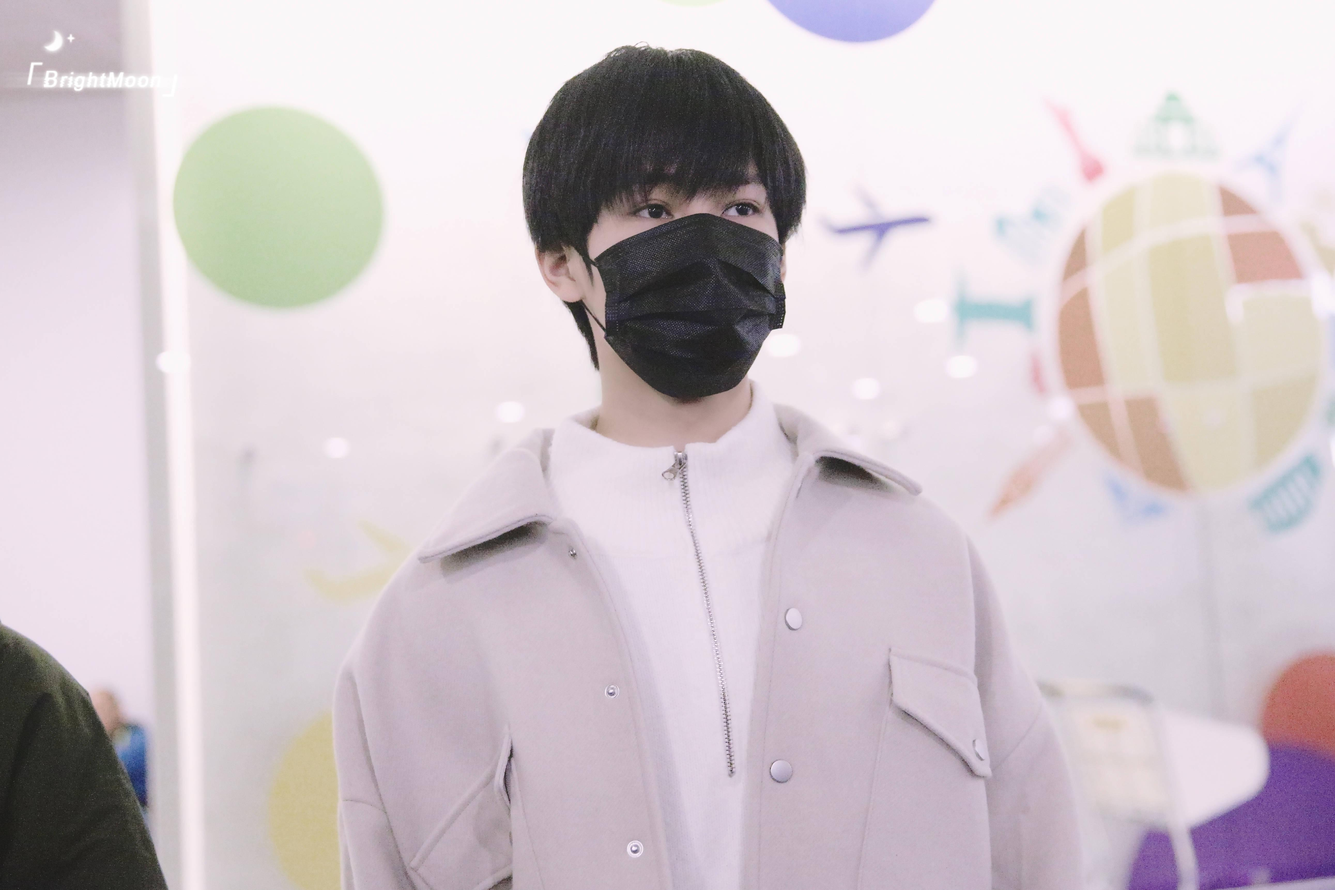OK: (588, 148, 784, 401)
